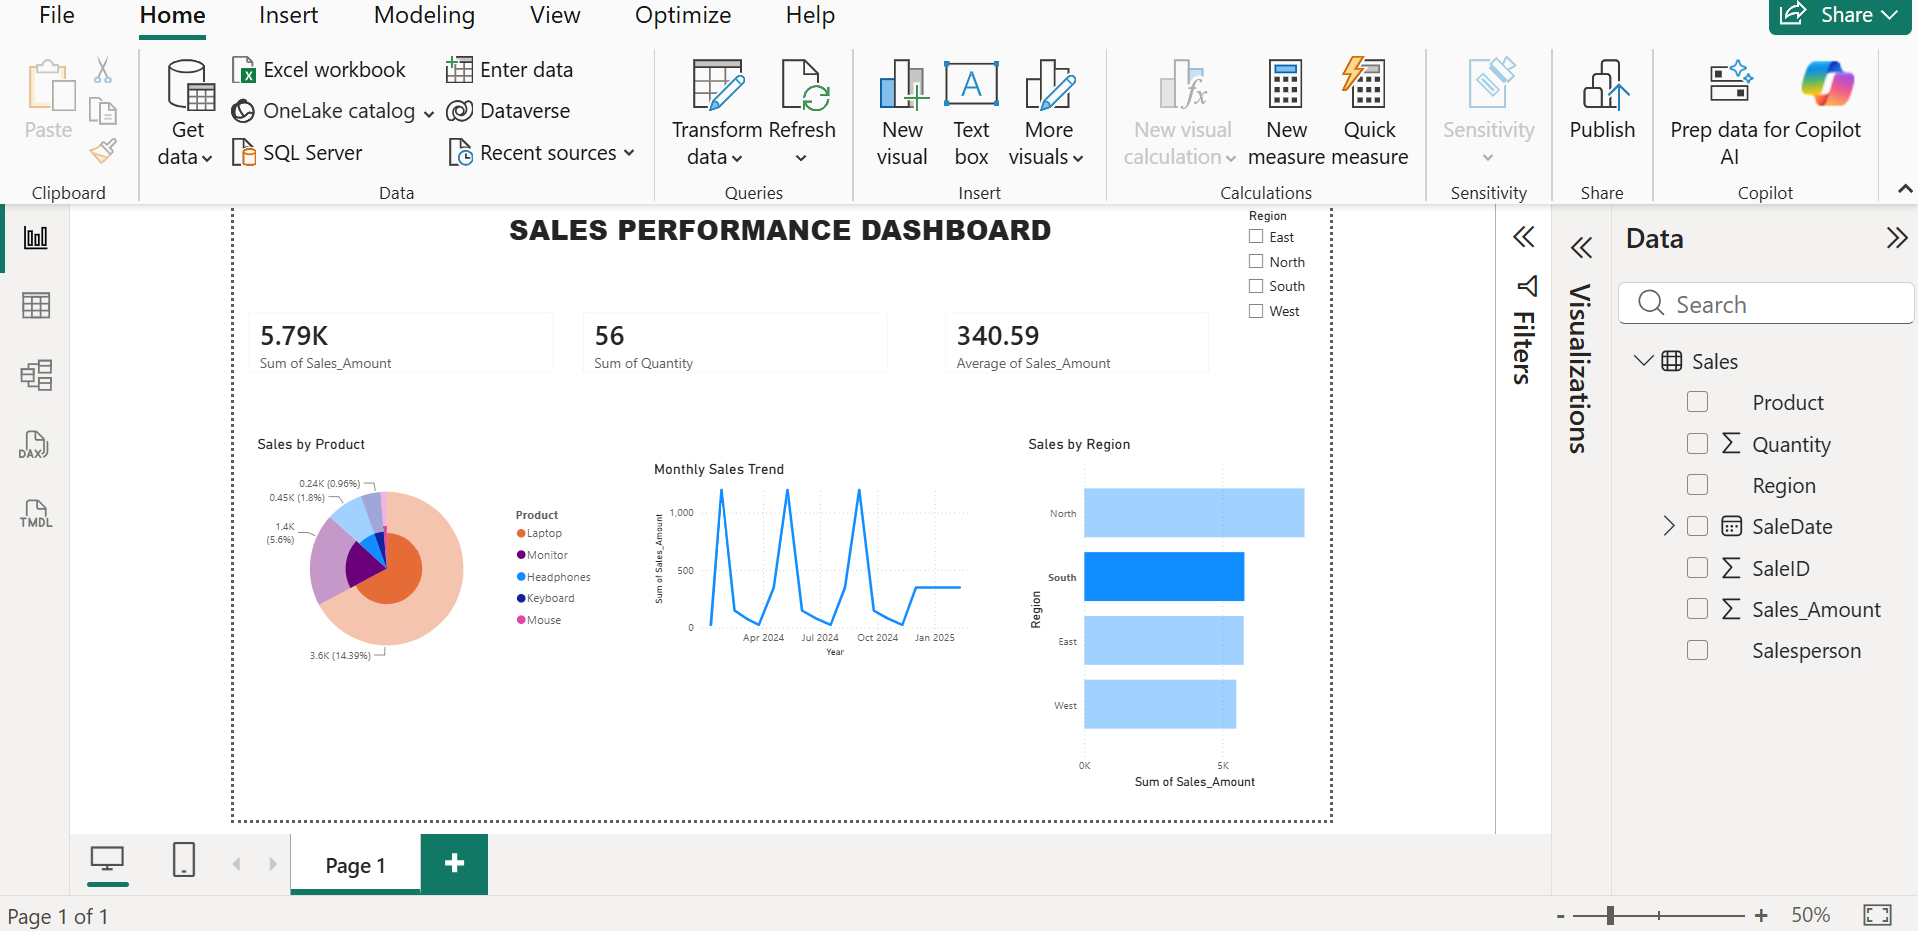

The page's visual inventory and layout, read from the dashboard file:
{"tool":"powerbi","page":{"name":"Page 1","canvas":[1280,720],"ordinal":0},"visuals":[{"type":"lineChart","title":"Monthly Sales Trend","fields":{"Y":["Sum(Sales.Sales_Amount)"],"Category":["Sales.SaleDate.Variation.Date Hierarchy.Year","Sales.SaleDate.Variation.Date Hierarchy.Quarter","Sales.SaleDate.Variation.Date Hierarchy.Month","Sales.SaleDate.Variation.Date Hierarchy.Day"]},"box":[485.5,300.2,390.8,233.7],"z":0},{"type":"clusteredBarChart","title":"Sales by Region","fields":{"Category":["Sales.Region"],"Y":["Sum(Sales.Sales_Amount)"]},"box":[922.7,270,340.5,417],"z":1000},{"type":"pieChart","title":" Sales by Product","fields":{"Category":["Sales.Product"],"Y":["Sum(Sales.Sales_Amount)"]},"box":[22.2,270,409,292.1],"z":2000},{"type":"slicer","fields":{"Values":["Sales.Region"]},"box":[1172.5,0,106.8,145.1],"z":3000},{"type":"textbox","box":[316.3,2,650.7,70.5],"z":4000},{"type":"cardVisual","fields":{"Data":["Sum(Sales.Sales_Amount)"]},"box":[0,108.8,390.8,106.8],"z":5000},{"type":"cardVisual","fields":{"Data":["Sum(Sales.Quantity)"]},"box":[390.8,108.8,390.8,106.8],"z":6000},{"type":"cardVisual","fields":{"Data":["Avg(Sales.Sales_Amount)"]},"box":[813.9,108.8,342.5,106.8],"z":7000}]}

Visuals, with their boxes on the page's 1280x720 design canvas (x1, y1, x2, y2). These are canvas units, not pixel positions in the 1918x931 screenshot, which may show the page scaled, cropped or inside an application window:
"Monthly Sales Trend" lineChart: detection(486, 300, 876, 534)
"Sales by Region" clusteredBarChart: detection(923, 270, 1263, 687)
" Sales by Product" pieChart: detection(22, 270, 431, 562)
slicer - Sales.Region: detection(1172, 0, 1279, 145)
textbox: detection(316, 2, 967, 72)
cardVisual - Sum(Sales.Sales_Amount): detection(0, 109, 391, 216)
cardVisual - Sum(Sales.Quantity): detection(391, 109, 782, 216)
cardVisual - Avg(Sales.Sales_Amount): detection(814, 109, 1156, 216)
